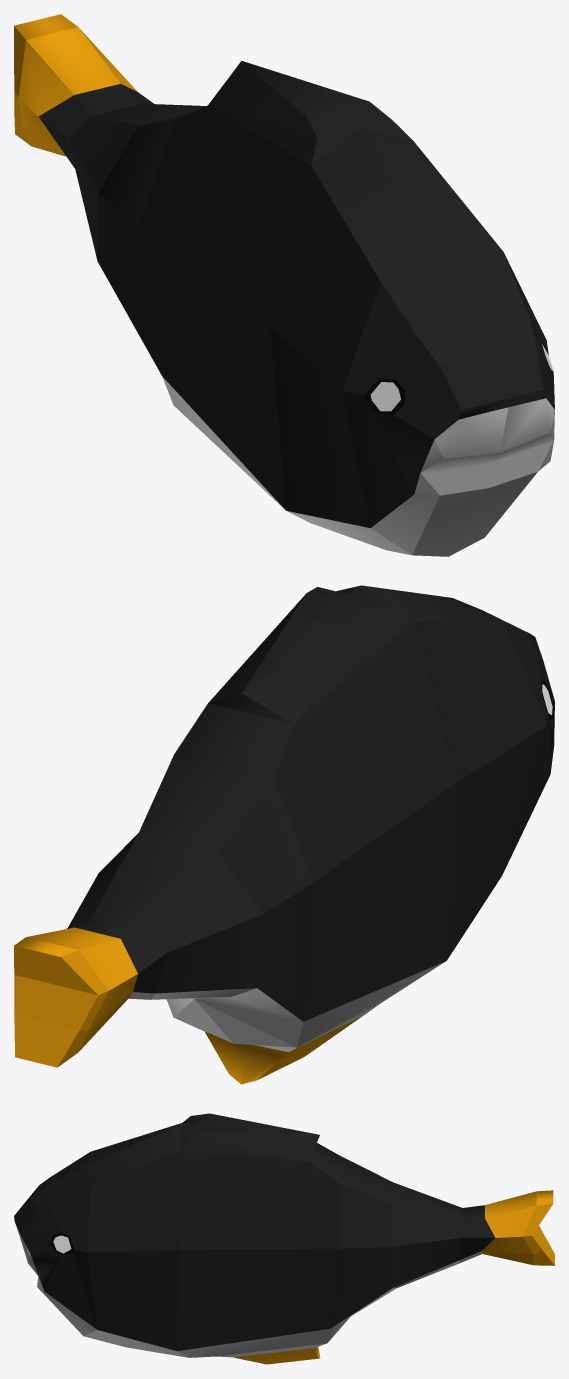
The model's file is Fish-1d.fbx.
3 renders of one model, top to bottom at view 1: azimuth 30°, elevation 25°; view 2: azimuth 150°, elevation 25°; view 3: azimuth 270°, elevation 25°, orthographic. The views are drawn at different scales.
Parts seen in each view (by area): view 1: Fish-1; view 2: Fish-1; view 3: Fish-1.
Boxes of the visible parts, <box> form: Fish-1: <box>14,14,554,556</box>; Fish-1: <box>14,585,554,1084</box>; Fish-1: <box>14,1113,554,1364</box>.
Bounding box in the file's own units: 0.2252 × 0.4485 × 0.9027.
